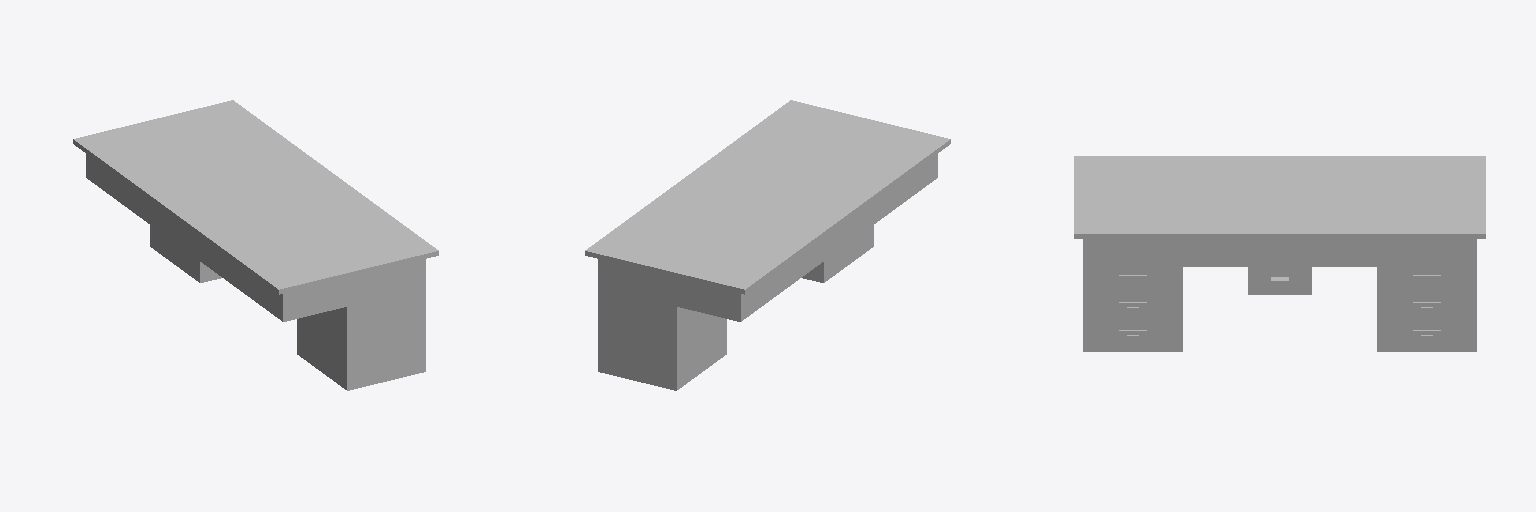
File: Office table.obj
3 views of the same model, side by side, from view 1: azimuth 30°, elevation 25°; view 2: azimuth 150°, elevation 25°; view 3: azimuth 270°, elevation 25° (orthographic).
Visible parts, largest first — view 1: pCube5; view 2: pCube5; view 3: pCube5.
Boxes of the visible parts, x1=… form: pCube5: x1=73, y1=100, x2=438, y2=390; pCube5: x1=585, y1=100, x2=950, y2=390; pCube5: x1=1074, y1=156, x2=1485, y2=351.
Size of the model in its own units: 156 by 113 by 346.